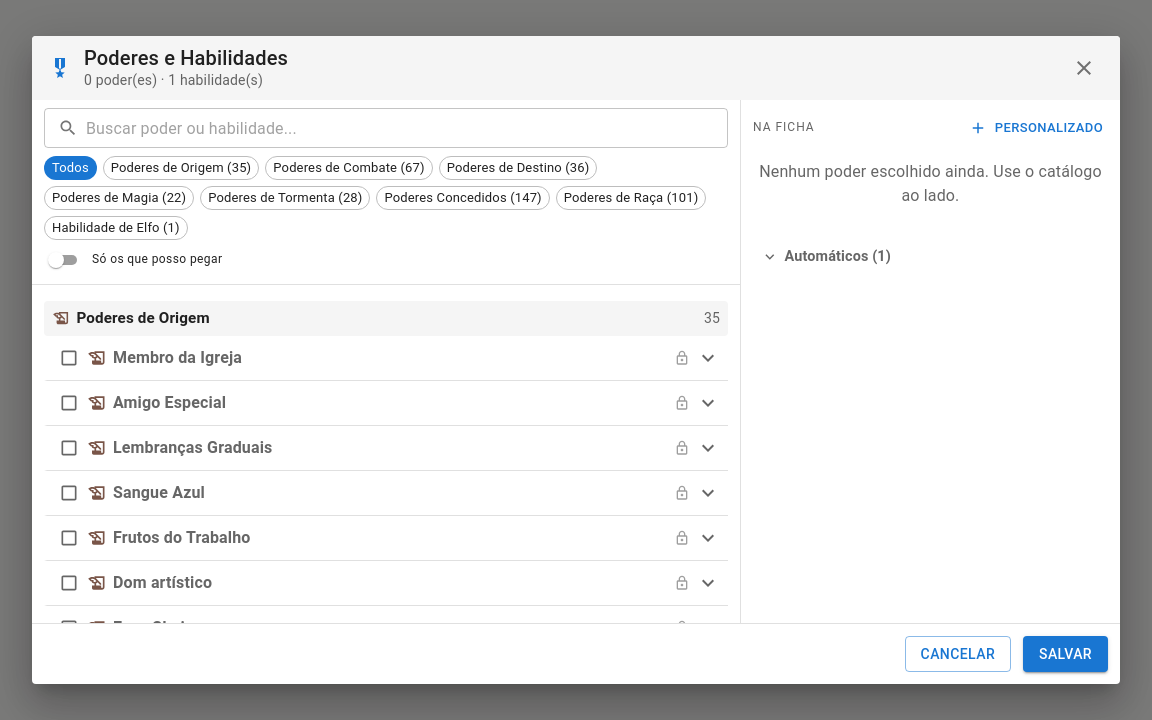
Test: PowersEditorModal › a busca varre também as habilidades de raça, antes ignoradas
This screenshot has width=1152, height=720.
Type "Sentidos Élficos" into the field with placeholder "Buscar poder ou habilidade..." at (407, 128), box [86,108,728,148]
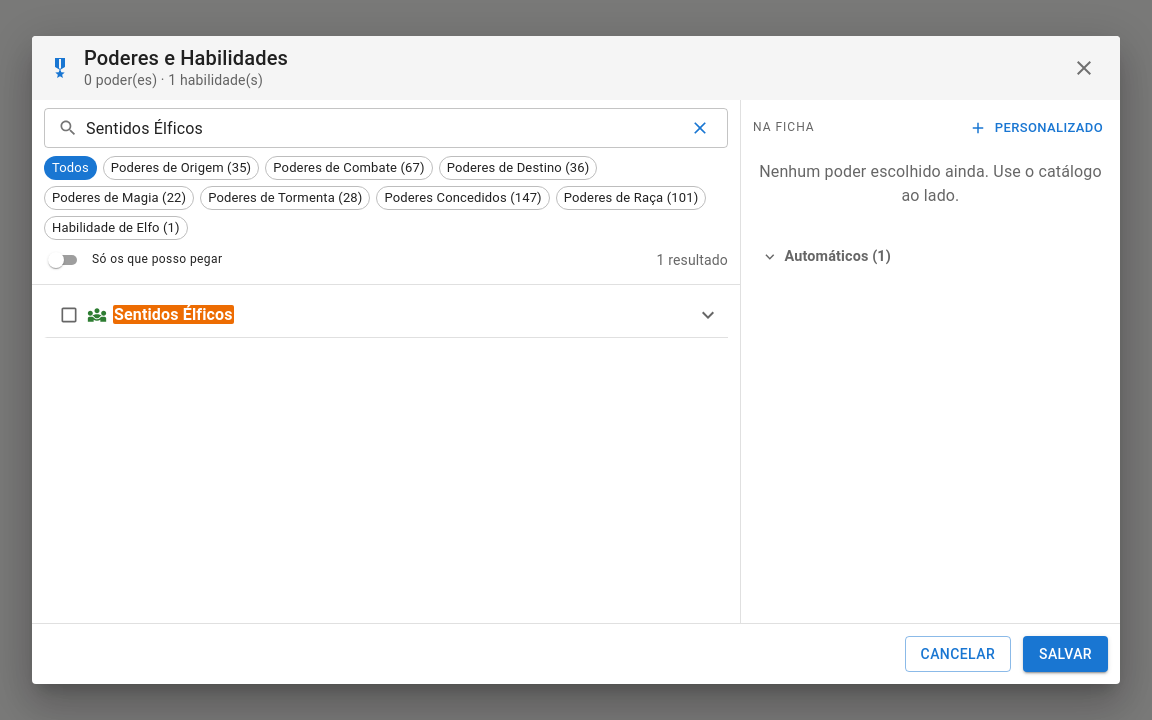
expect the text "Sentidos Élficos" is shown: met, box [113,305,234,324]
